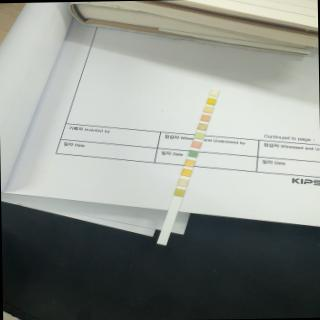mark: (180, 168, 192, 176), (190, 140, 202, 148), (173, 188, 184, 196), (178, 178, 188, 186), (184, 159, 194, 167), (188, 149, 198, 157), (194, 132, 204, 140), (203, 105, 213, 112), (206, 97, 216, 104), (198, 123, 207, 130), (201, 114, 210, 121), (210, 88, 218, 95)
